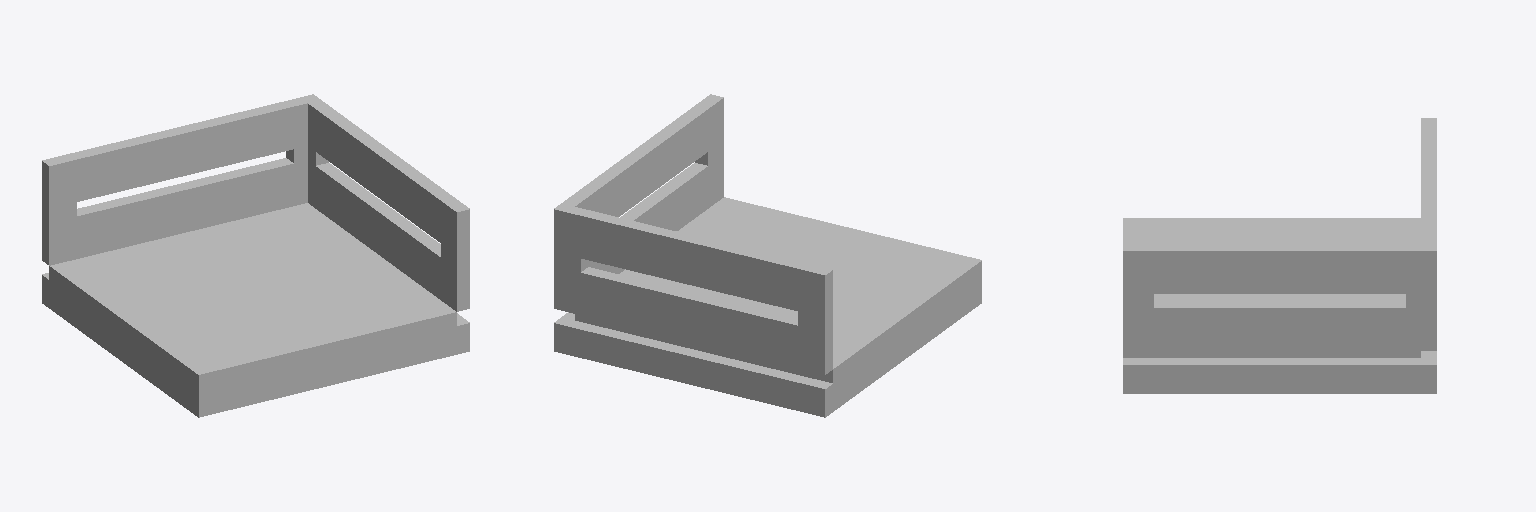
Rendered from room_1100.obj.
3 renders of one model, left to right at view 1: azimuth 30°, elevation 25°; view 2: azimuth 150°, elevation 25°; view 3: azimuth 270°, elevation 25°, orthographic.
Visible parts, largest first — view 1: room_1100; view 2: room_1100; view 3: room_1100.
Part boxes in pixels (x1,y1,x2,y2): room_1100: (42, 94, 469, 417); room_1100: (554, 94, 981, 417); room_1100: (1123, 118, 1436, 393).
Bounding box in the file's own units: 20 × 10 × 20.